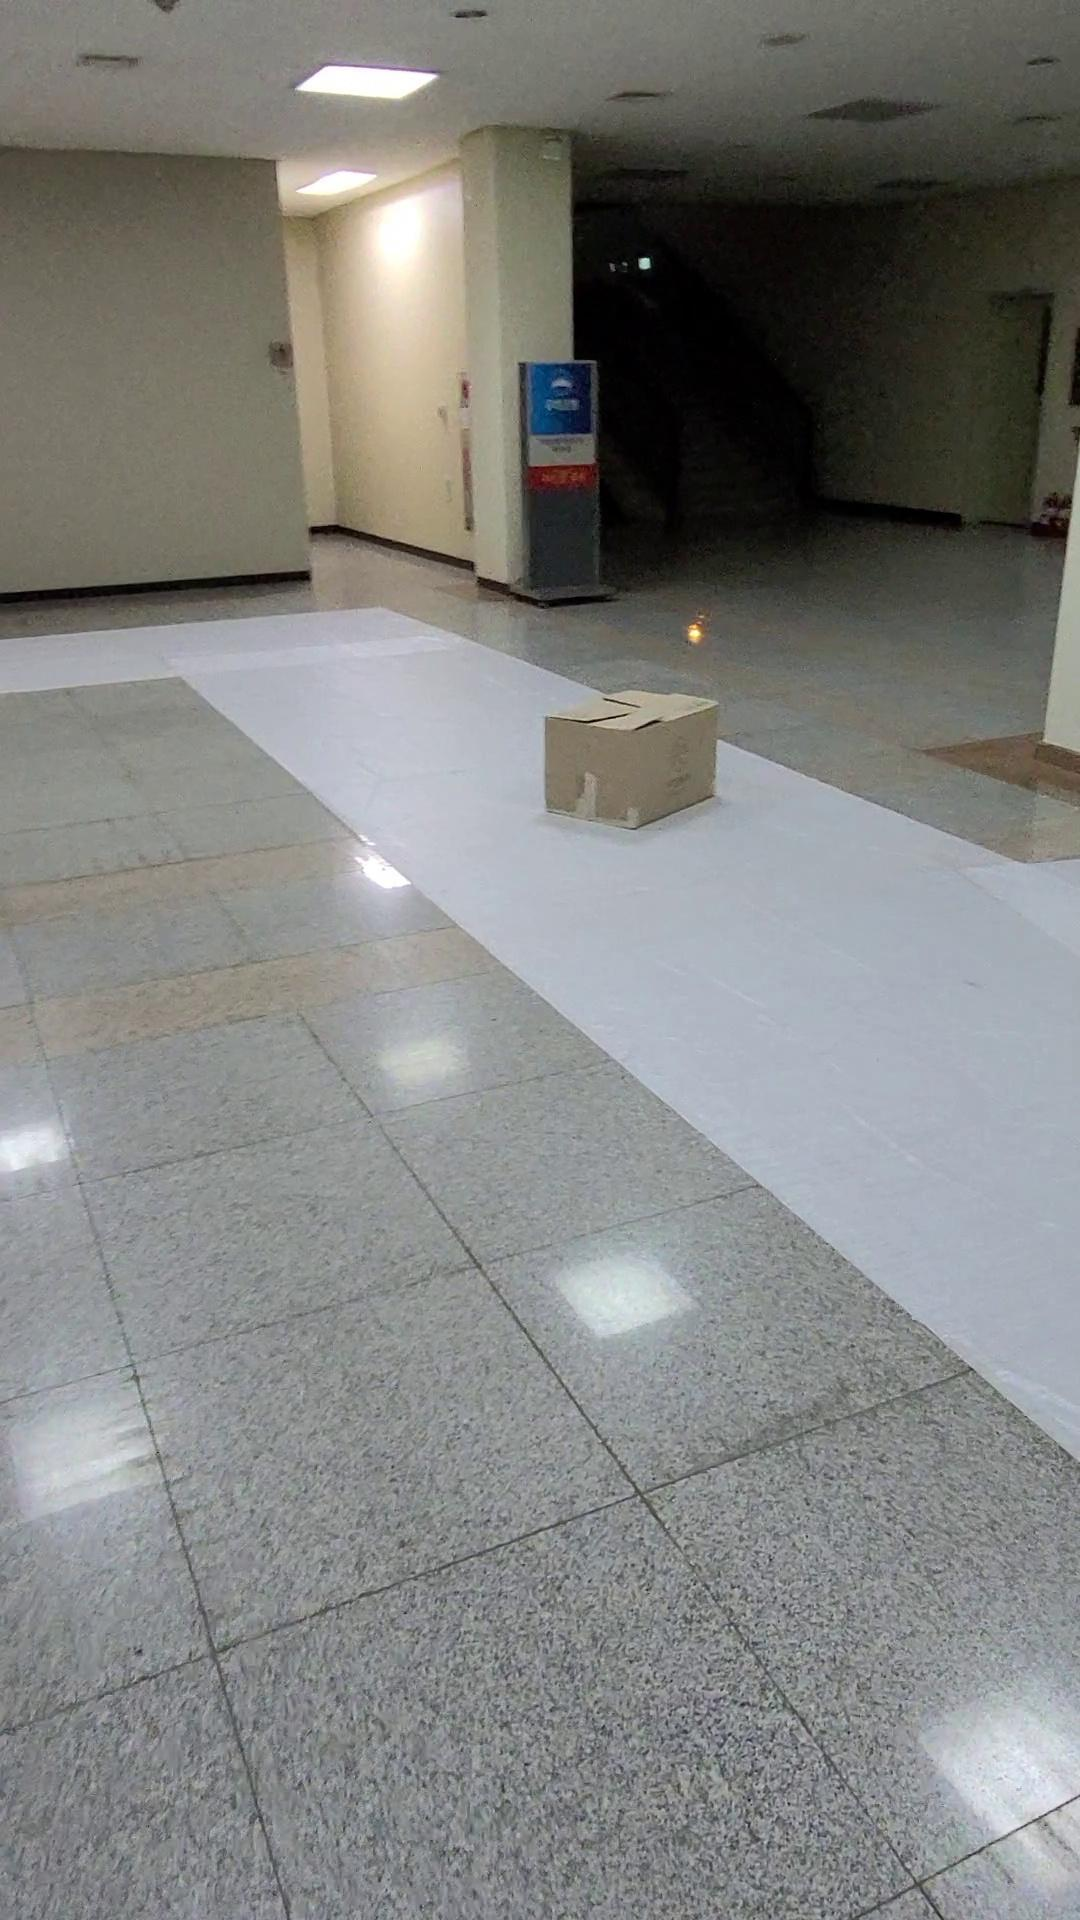Box: (508, 650, 754, 857)
